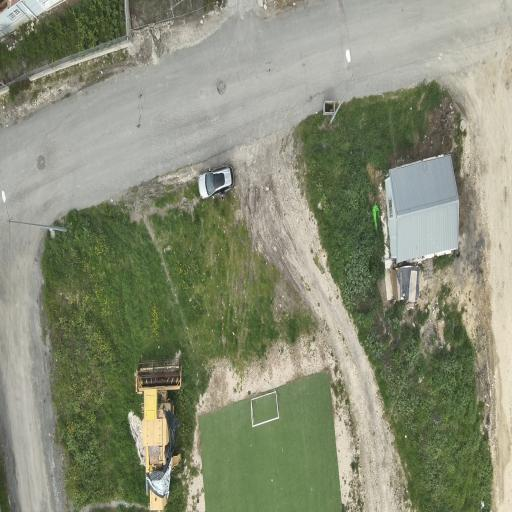car: (199, 165, 234, 199)
harvester: (136, 358, 181, 510)
